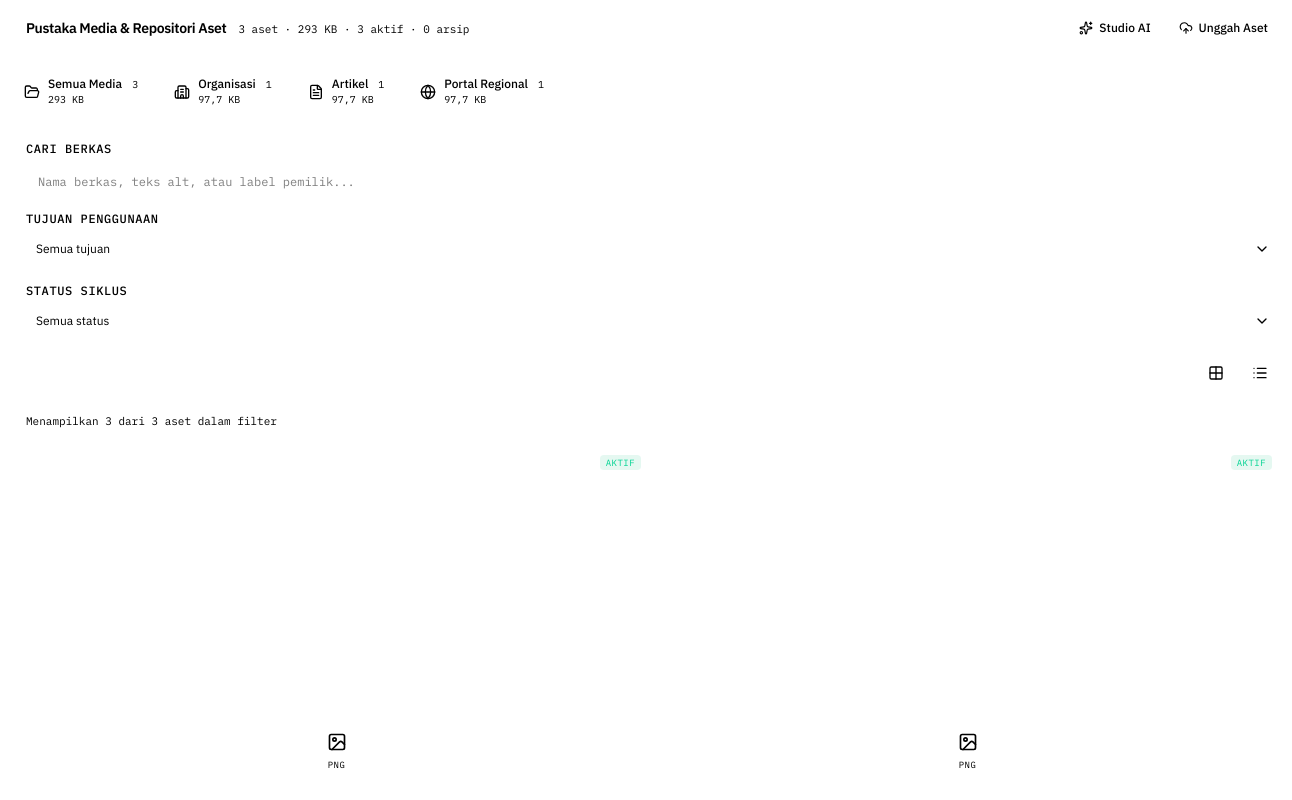
Scenario: MediaLibrary › memuat ulang dari server saat filter berubah
Click the button "Portal Regional 1 97,7 KB": x=484, y=92 [408,68,560,115]
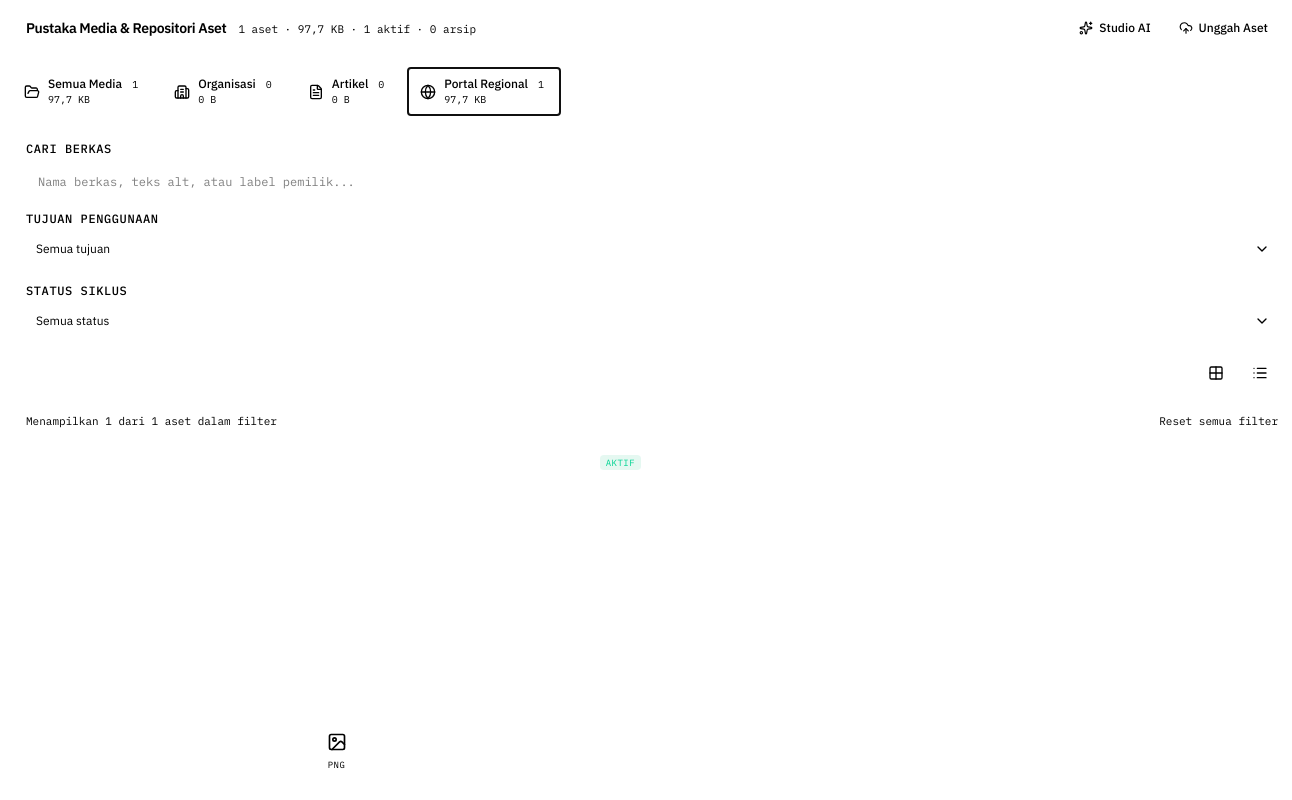
Check: the text "Menampilkan 1 dari 1 aset dalam filter" is shown, box [26,413,277,430]
